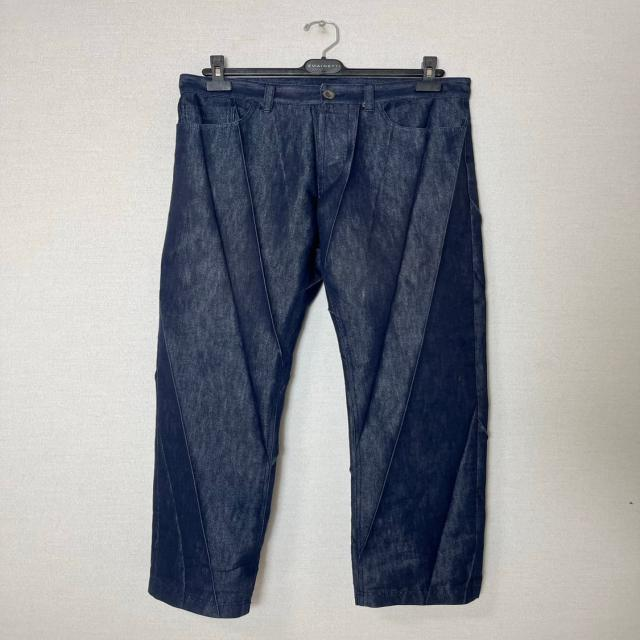long-pants: (142, 70, 486, 620)
